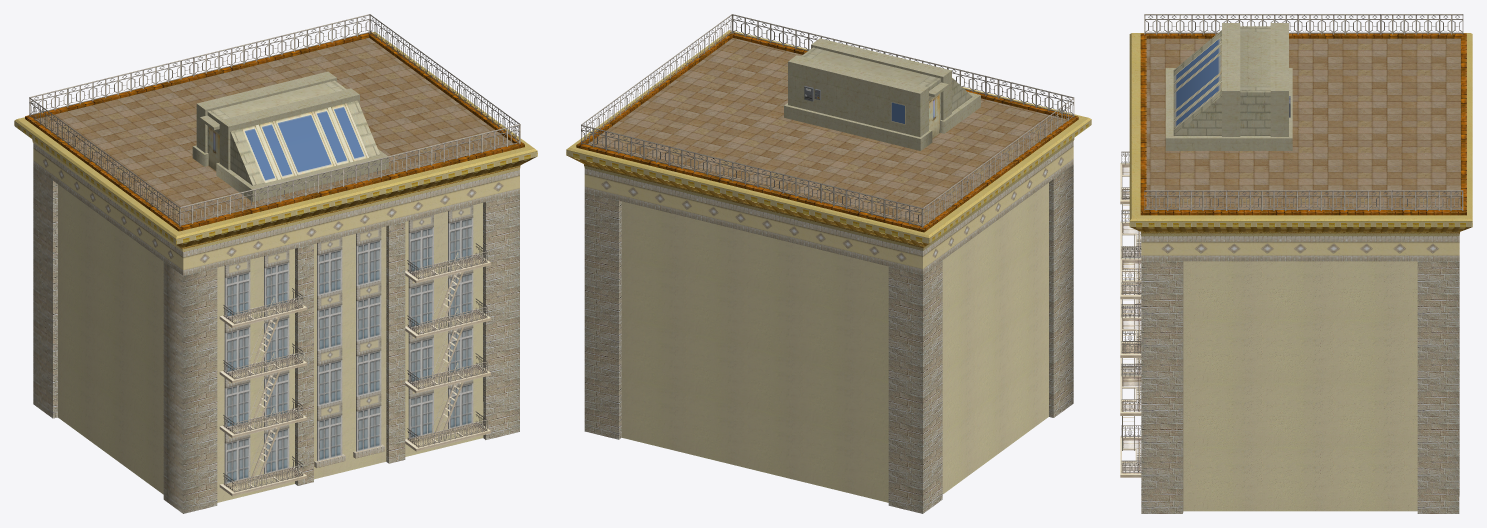
File: BuilC.fbx
3 views of the same model, side by side, from view 1: azimuth 30°, elevation 25°; view 2: azimuth 150°, elevation 25°; view 3: azimuth 270°, elevation 25° (orthographic). The views are drawn at different scales.
Parts seen in each view (by area): view 1: ct2_01_n2_yc1_builC_02; view 2: ct2_01_n2_yc1_builC_02; view 3: ct2_01_n2_yc1_builC_02.
Part boxes in pixels (left/top/right/bottom): ct2_01_n2_yc1_builC_02: left=14, top=14, right=537, bottom=513; ct2_01_n2_yc1_builC_02: left=566, top=14, right=1091, bottom=513; ct2_01_n2_yc1_builC_02: left=1120, top=14, right=1472, bottom=513.
Bounding box in the file's own units: 2445 × 2192 × 1948.
